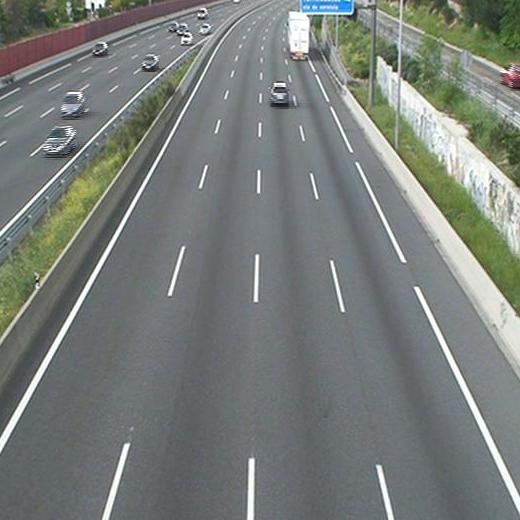car: (270, 83, 289, 104)
truck: (288, 11, 311, 58)
